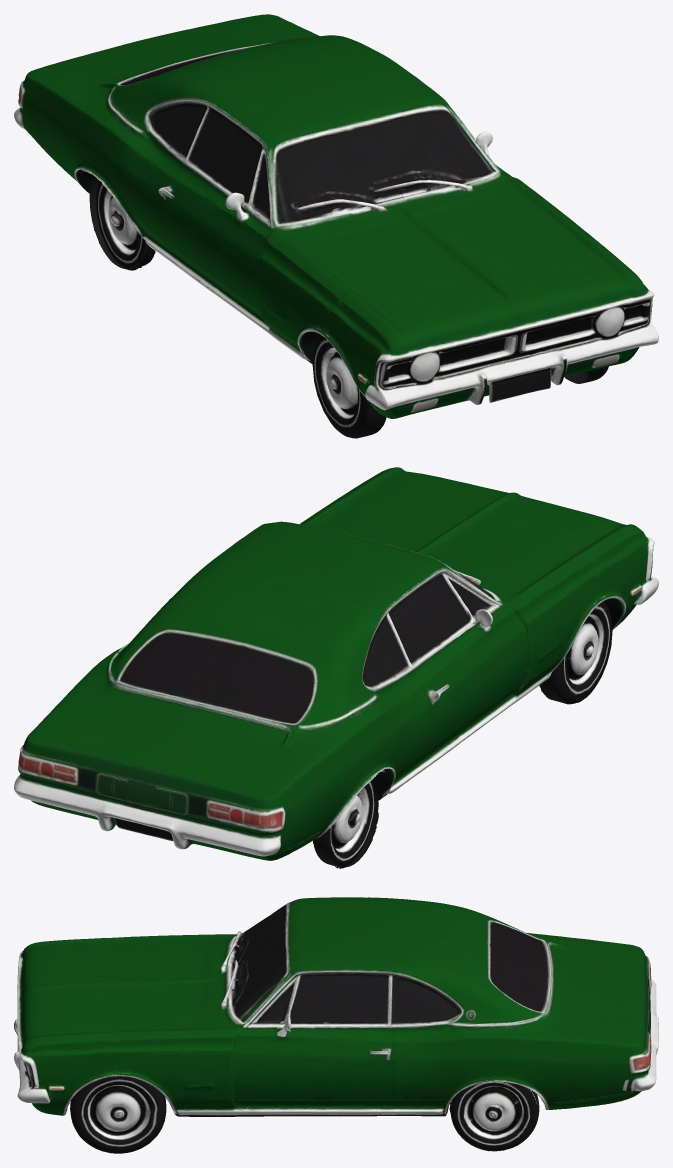
Rendered from carro11.glb.
3 views of the same model, one above another, from view 1: azimuth 30°, elevation 25°; view 2: azimuth 150°, elevation 25°; view 3: azimuth 270°, elevation 25° (orthographic). The views are drawn at different scales.
Visible parts, largest first — view 1: Body, Wheel_FR, Wheel_RR; view 2: Body, Wheel_FR, Wheel_RR; view 3: Body, Wheel_FL, Wheel_RL.
Part boxes in pixels (x1,y1,x2,y2): Body: (14, 14, 658, 438); Wheel_FR: (312, 334, 386, 438); Wheel_RR: (96, 181, 151, 270); Body: (14, 467, 658, 867); Wheel_FR: (539, 601, 612, 704); Wheel_RR: (326, 770, 384, 868); Body: (14, 897, 658, 1151); Wheel_FL: (70, 1076, 166, 1153); Wheel_RL: (450, 1080, 537, 1151).
Size of the model in its own units: 0.8089 by 0.5753 by 1.9.
1 material, 1 textured.
